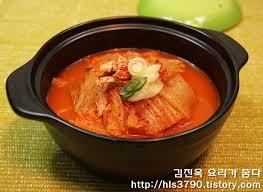kimchisup: (2, 1, 262, 190), (1, 1, 261, 189)
